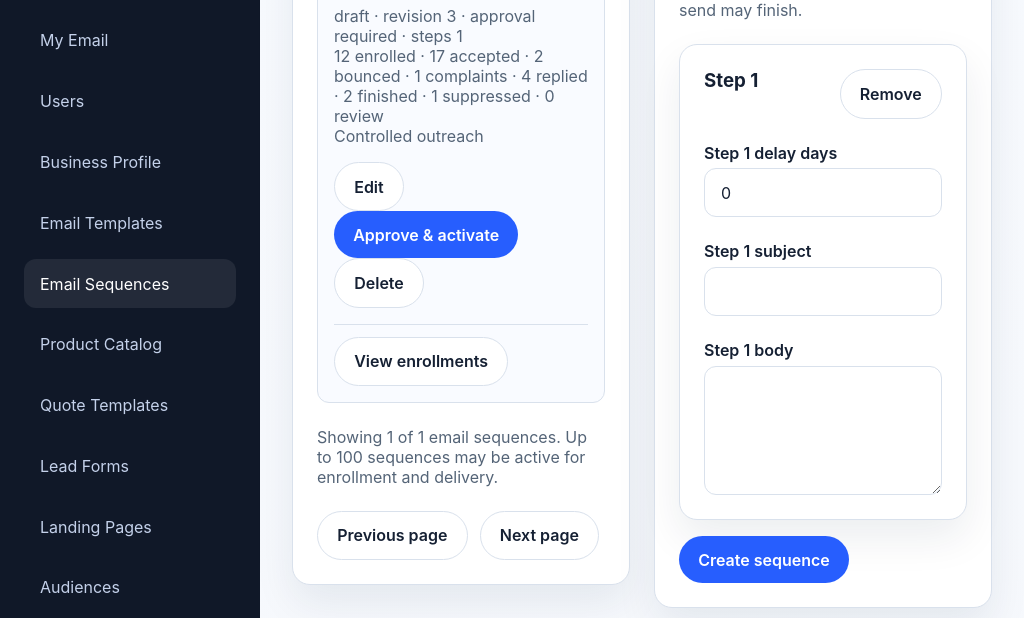
Test: settings email sequences route › requires an admin action to activate an exact draft revision
The image size is (1024, 618).
(page scrolled)
expect the text "draft · revision 3 · approval required · steps 1" is shown: met, box x1=334 y1=6 x2=535 y2=46
expect the text "12 enrolled · 17 accepted · 2 bounced · 1 complaints · 4 replied · 2 finished" is shown: met, box x1=334 y1=46 x2=588 y2=126
Click the button "Approve & activate".
click(426, 235)  # box x1=334 y1=211 x2=518 y2=258
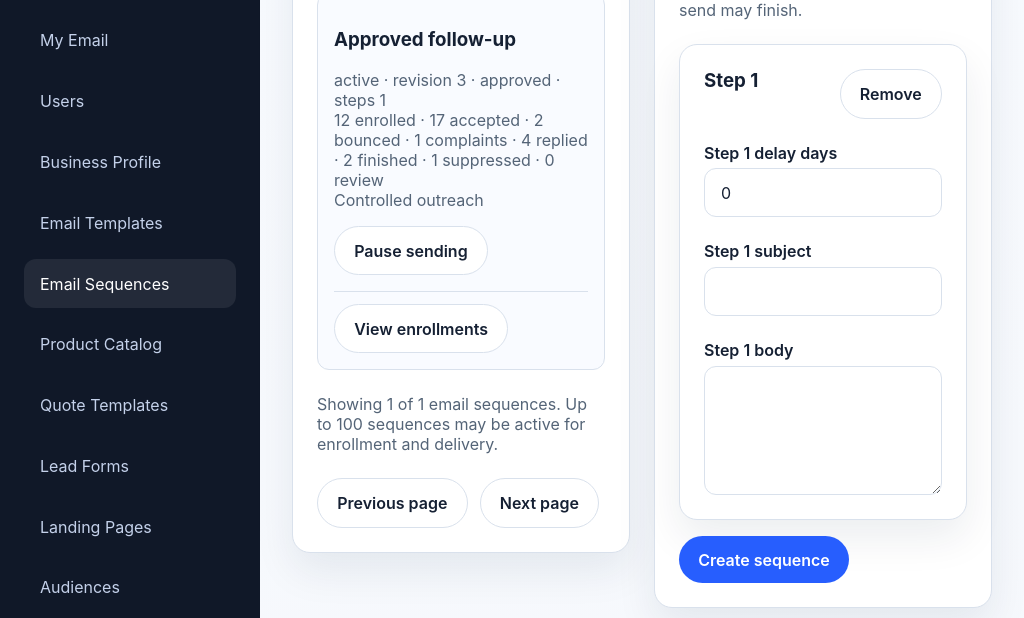
expect the text "active · revision 3 · approved · steps 1" is shown: met, box x1=334 y1=70 x2=588 y2=110
expect the button "Pause sending" is shown: met, box x1=334 y1=226 x2=488 y2=275
expect the button "Edit" is gone: met
